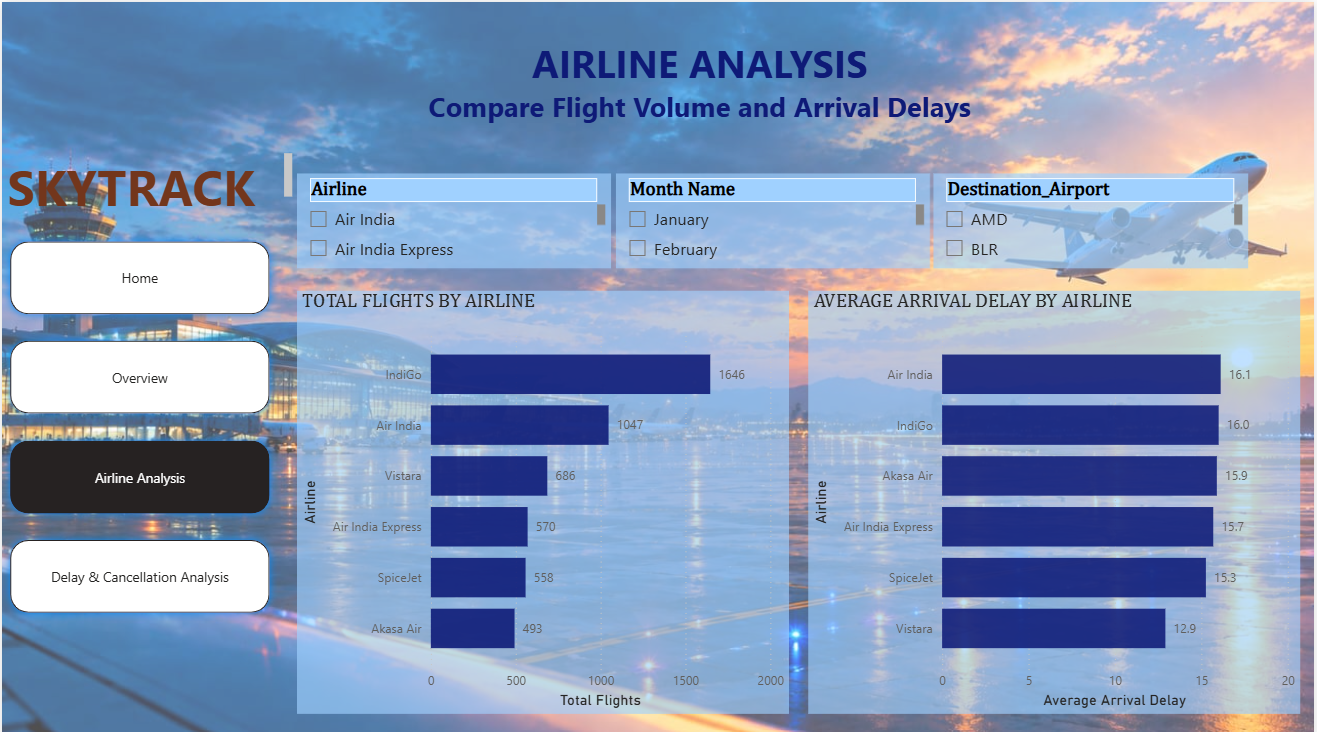

This screenshot's page, from the dashboard's own definition file:
{"tool":"powerbi","page":{"name":"Airline Analysis","canvas":[1280,720],"ordinal":2},"visuals":[{"type":"clusteredBarChart","title":"TOTAL FLIGHTS BY AIRLINE","fields":{"Category":["Flights.Airline"],"Y":["DAX_Measures.Total Flights"]},"box":[287.5,281.9,480,412.5],"z":0},{"type":"clusteredBarChart","title":"AVERAGE ARRIVAL DELAY BY AIRLINE","fields":{"Category":["Flights.Airline"],"Y":["DAX_Measures.Average Arrival Delay"]},"box":[786.1,281.9,480,412.5],"z":1000},{"type":"textbox","box":[395.2,29.8,571.4,96.4],"z":2000},{"type":"slicer","fields":{"Values":["Flights.Airline"]},"box":[287.5,167,306,93.2],"z":3000},{"type":"slicer","fields":{"Values":["DateTable.Month Name"]},"box":[598.9,167,306,93.2],"z":4000},{"type":"slicer","fields":{"Values":["Flights.Destination_Airport"]},"box":[908,167,306.8,93.2],"z":5000},{"type":"pageNavigator","box":[0,226.2,269,378.6],"z":6000},{"type":"textbox","box":[0,142.9,288.1,61.9],"z":7000}]}

Visuals, with their boxes in screenshot pixels (x1, y1, x2, y2), scaled from the page's 1280x720 canvas onto the 1317x732 screenshot:
"TOTAL FLIGHTS BY AIRLINE" clusteredBarChart: [left=296, top=287, right=790, bottom=706]
"AVERAGE ARRIVAL DELAY BY AIRLINE" clusteredBarChart: [left=809, top=287, right=1303, bottom=706]
textbox: [left=407, top=30, right=995, bottom=128]
slicer - Flights.Airline: [left=296, top=170, right=611, bottom=265]
slicer - DateTable.Month Name: [left=616, top=170, right=931, bottom=265]
slicer - Flights.Destination_Airport: [left=934, top=170, right=1250, bottom=265]
pageNavigator: [left=0, top=230, right=277, bottom=615]
textbox: [left=0, top=145, right=296, bottom=208]
